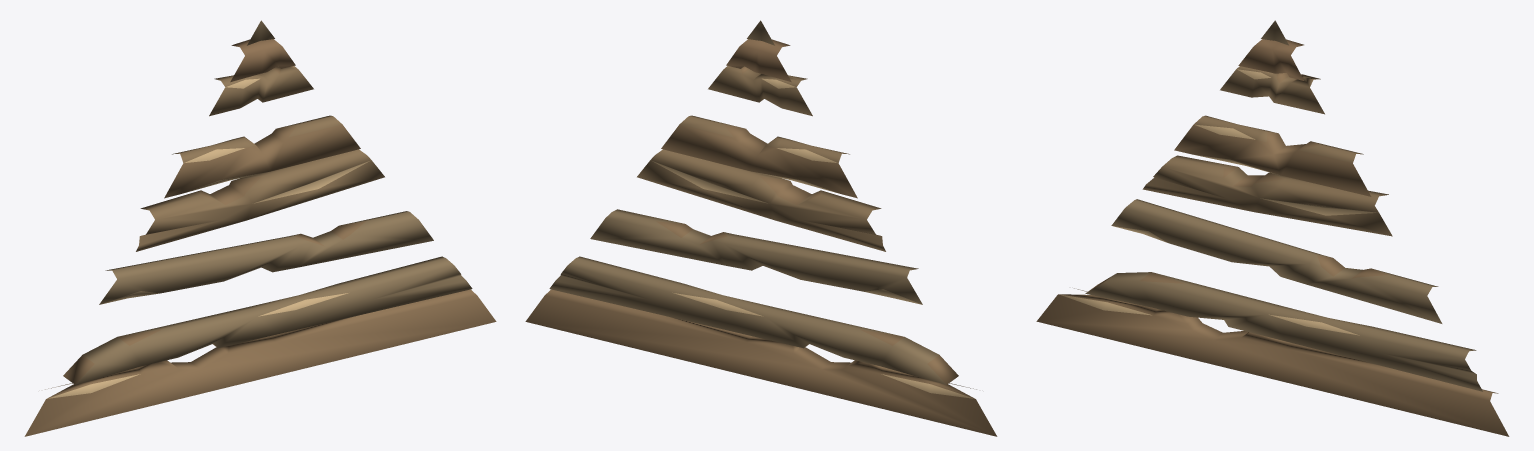
Rendered from rpgpp_av_roof_end_01_6x5_wall_01b.gltf.
3 renders of one model, left to right at view 1: azimuth 30°, elevation 25°; view 2: azimuth 150°, elevation 25°; view 3: azimuth 330°, elevation 25°, orthographic.
Visible parts, largest first — view 1: rpgpp_av_roof_end_01_6x5_wall_01b; view 2: rpgpp_av_roof_end_01_6x5_wall_01b; view 3: rpgpp_av_roof_end_01_6x5_wall_01b.
Part boxes in pixels (left/top/right/bottom): rpgpp_av_roof_end_01_6x5_wall_01b: left=24, top=20, right=496, bottom=436; rpgpp_av_roof_end_01_6x5_wall_01b: left=525, top=20, right=997, bottom=436; rpgpp_av_roof_end_01_6x5_wall_01b: left=1036, top=20, right=1509, bottom=436.
Bounding box in the file's own units: 0.0669 × 0.0485 × 0.00374.
Materials: 1 (1 with a texture image).
